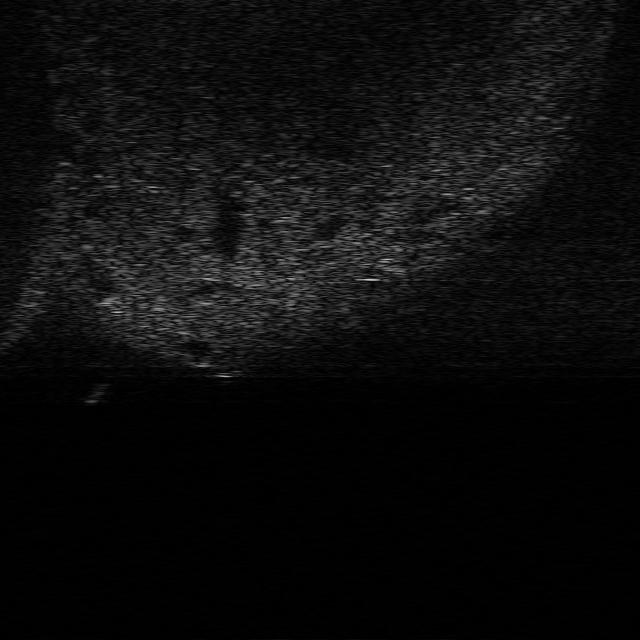cylinder: (84, 382, 111, 404)
